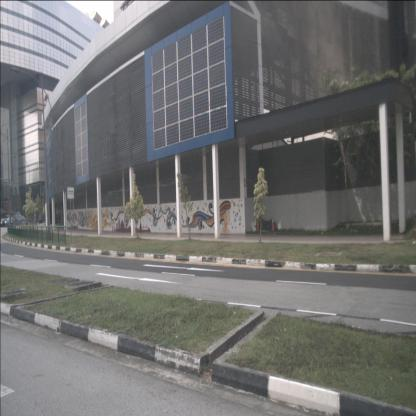cone: (256, 218, 260, 232), (271, 218, 275, 231)
